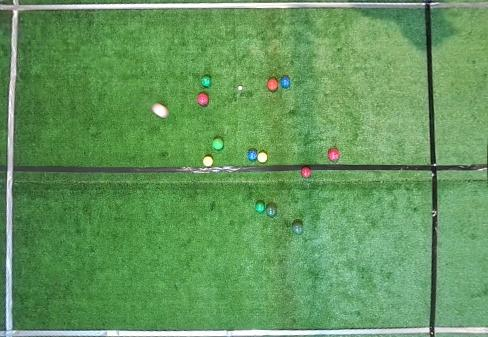blue: (247, 149, 257, 161), (280, 76, 290, 88)
green: (212, 137, 224, 150), (292, 222, 303, 234), (266, 205, 276, 217), (255, 201, 265, 212), (201, 76, 211, 87)
red: (151, 103, 169, 118), (327, 148, 340, 162), (196, 92, 209, 106), (267, 78, 279, 91), (301, 167, 311, 178)
vline: (424, 0, 487, 336), (0, 0, 21, 336)
white: (238, 86, 242, 90)
yellow: (203, 156, 214, 167), (258, 152, 267, 163)
